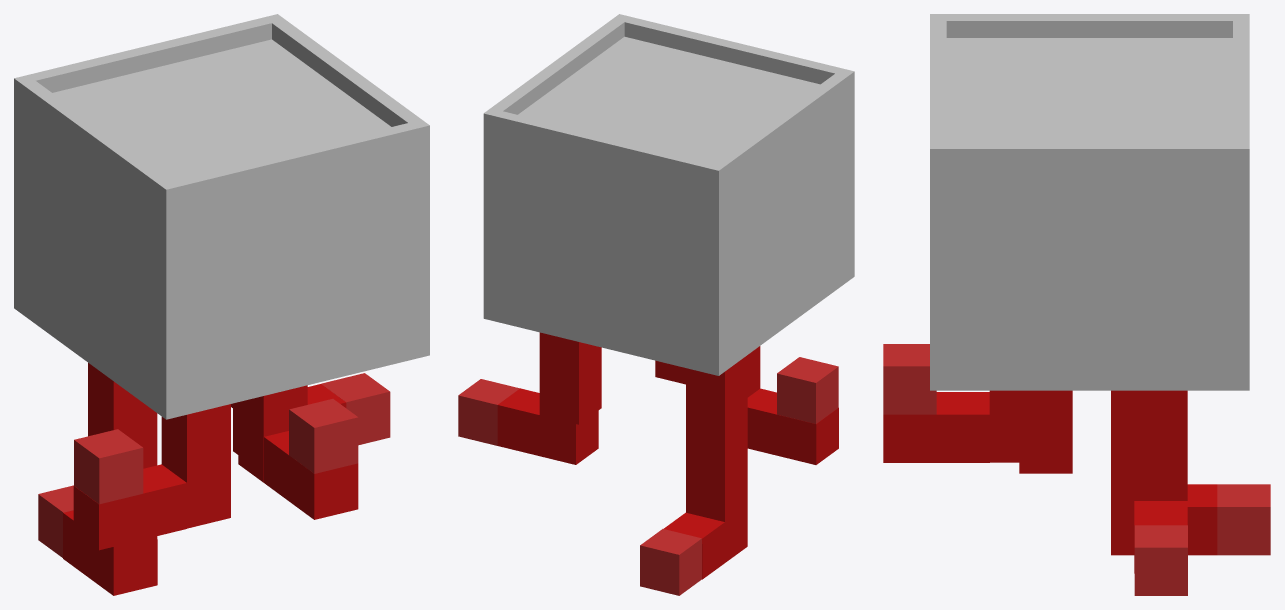
Rendered from jellyfish.fbx.
3 renders of one model, left to right at view 1: azimuth 30°, elevation 25°; view 2: azimuth 150°, elevation 25°; view 3: azimuth 270°, elevation 25°, orthographic. The views are drawn at different scales.
Parts seen in each view (by area): view 1: PLASTIC, character (6), character (7), character (11), character (3), character (4), character (10), character (12), character (9), character, character (2), character (13); view 2: PLASTIC, character (12), character (5), character (13), character (7), character (2), character (3), character (10), character, character (6), character (9); view 3: PLASTIC, character (11), character (5), character (9), character (2), character, character (4), character (10), character (6), character (12), character (13).
Boxes of the visible parts, bbox=[...] form: PLASTIC: bbox=[14, 14, 429, 419]; character (6): bbox=[161, 404, 230, 528]; character (7): bbox=[73, 464, 186, 550]; character (11): bbox=[264, 431, 358, 519]; character (3): bbox=[74, 429, 143, 504]; character (4): bbox=[289, 399, 358, 473]; character (10): bbox=[63, 510, 157, 595]; character (12): bbox=[88, 363, 157, 549]; character (9): bbox=[238, 385, 307, 482]; character: bbox=[321, 373, 390, 445]; character (2): bbox=[38, 485, 73, 557]; character (13): bbox=[233, 384, 346, 454]; PLASTIC: bbox=[483, 14, 854, 375]; character (12): bbox=[686, 355, 747, 521]; character (5): bbox=[539, 332, 601, 424]; character (13): bbox=[497, 388, 598, 464]; character (7): bbox=[747, 388, 838, 464]; character (2): bbox=[640, 529, 701, 595]; character (3): bbox=[777, 357, 838, 423]; character (10): bbox=[663, 506, 747, 579]; character: bbox=[458, 379, 519, 445]; character (6): bbox=[747, 346, 760, 397]; character (9): bbox=[655, 360, 685, 384]; PLASTIC: bbox=[930, 14, 1249, 390]; character (11): bbox=[883, 392, 989, 462]; character (5): bbox=[1134, 390, 1187, 500]; character (9): bbox=[989, 390, 1042, 462]; character (2): bbox=[1217, 484, 1270, 555]; character: bbox=[1134, 525, 1187, 595]; character (4): bbox=[883, 344, 936, 414]; character (10): bbox=[1111, 484, 1217, 555]; character (6): bbox=[1019, 390, 1072, 473]; character (12): bbox=[1111, 390, 1134, 506]; character (13): bbox=[1134, 501, 1187, 573].
Size of the model in its own units: 78.74 by 104 by 72.71.
